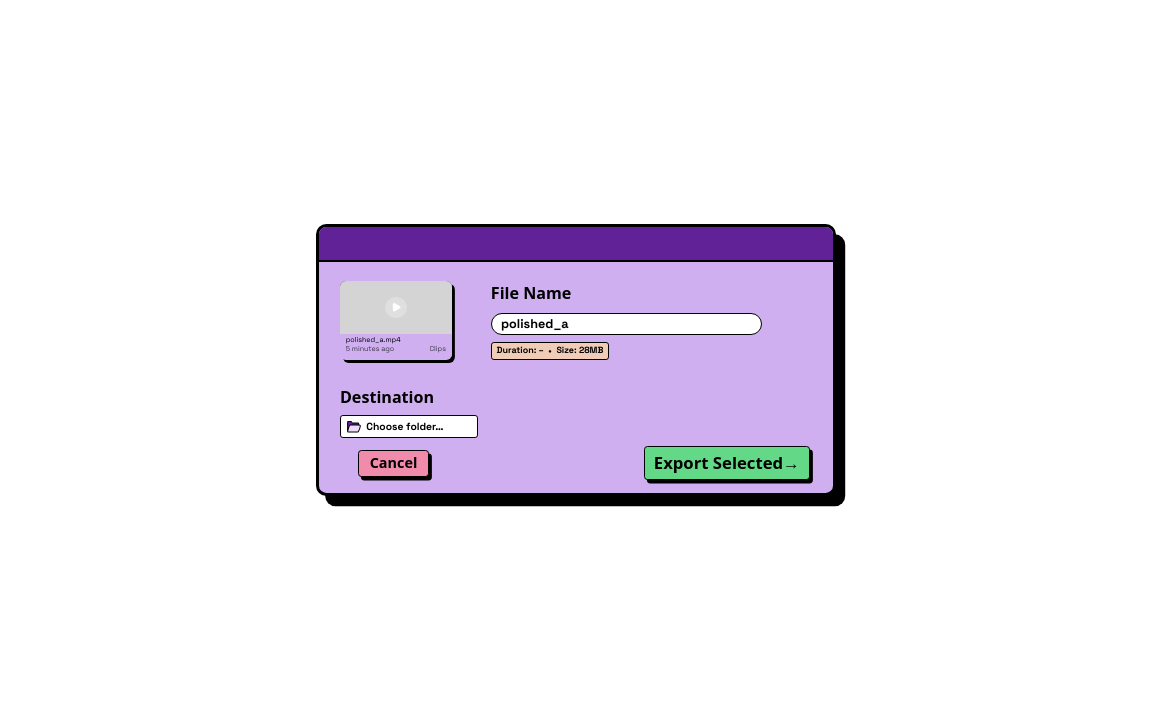
Test: export dialog › needs a destination first
Click the button "Export Selected→".
click(727, 463)  # box [644,446,810,480]
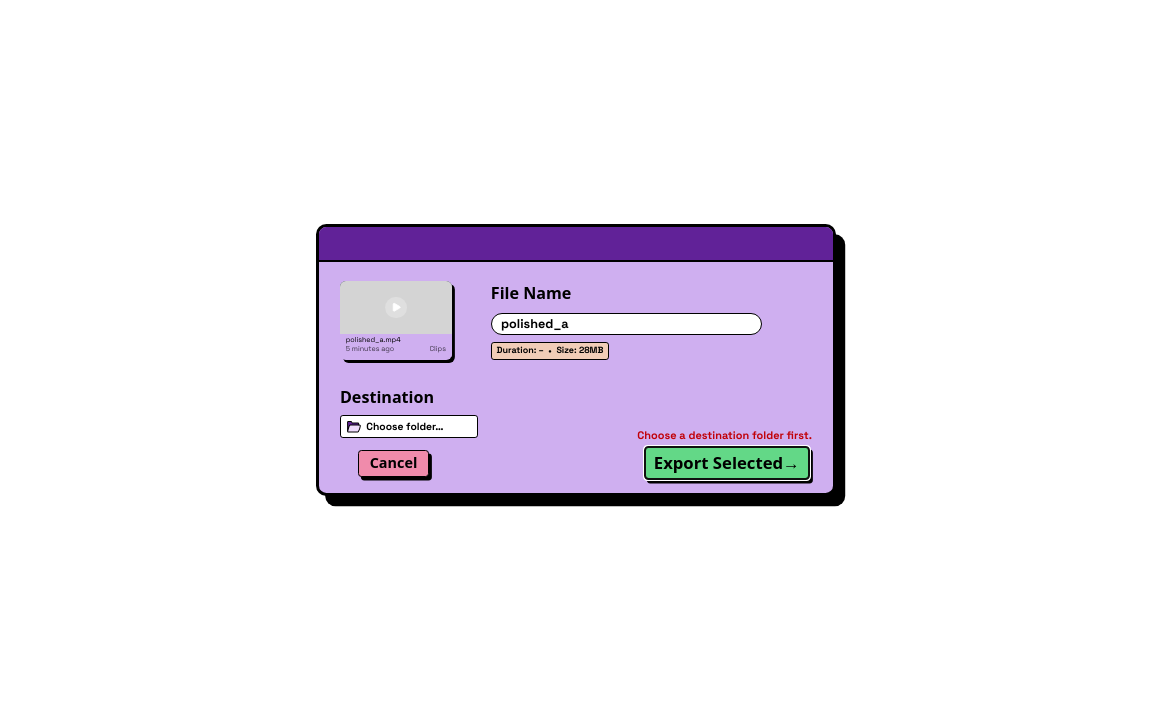
Now the text "Choose a destination folder first." is shown, box [637,427,812,444]
